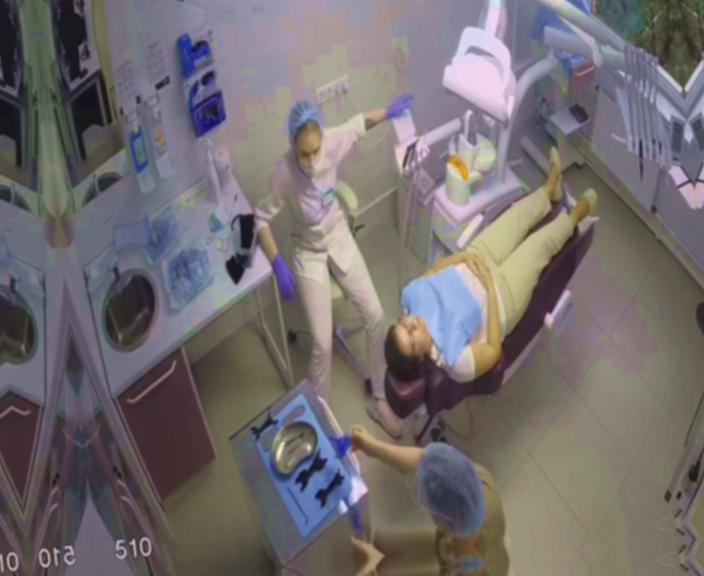Patient: (356, 142, 621, 424)
